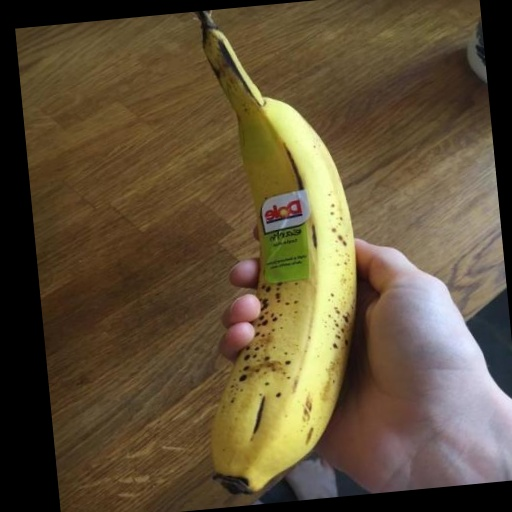fruit: (196, 11, 355, 493)
